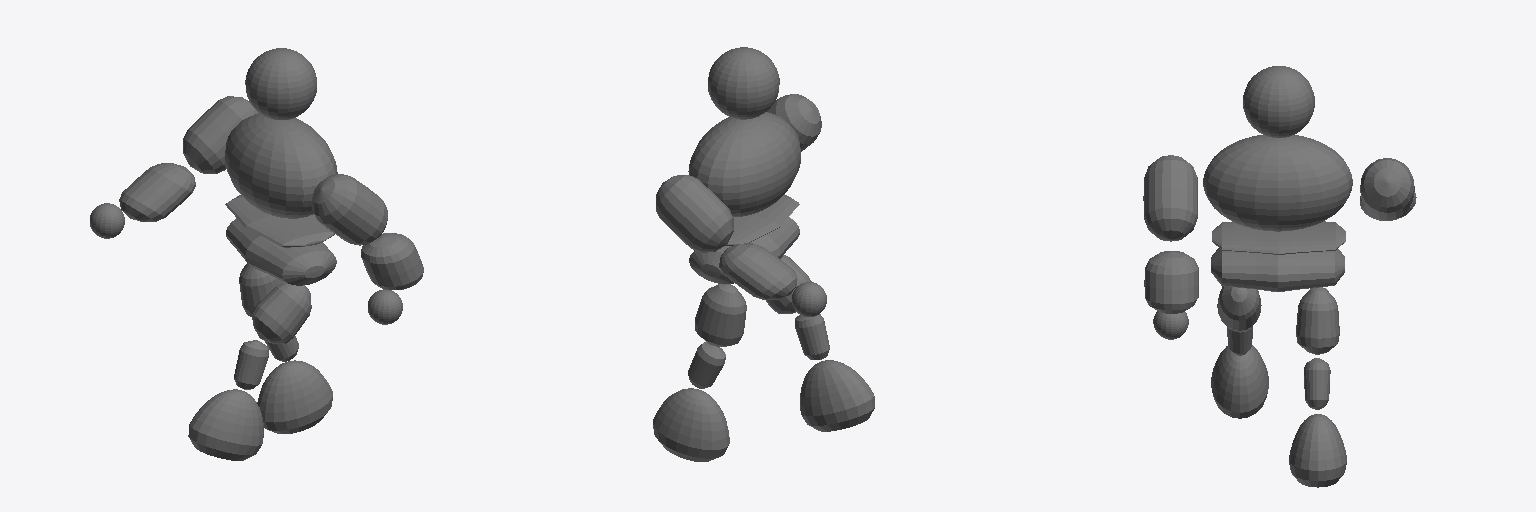
Rendered from PTwo2.obj.
3 renders of one model, left to right at view 1: azimuth 30°, elevation 25°; view 2: azimuth 150°, elevation 25°; view 3: azimuth 270°, elevation 25°, orthographic.
Visible parts, largest first — view 1: pSphere1, pasted__pasted__pSphere1 pasted__group group3, pasted__pasted__pasted__pSphere1 pasted__pasted__group pasted__g, pSphere3, pasted__pCylinder2 group12, pCylinder1, pCylinder2, pasted__pasted__pasted__pCylinder2 pasted__pasted__group13 paste, pasted__pasted__pCylinder2 pasted__group13 group14, pasted__pasted__pasted__pasted__pCylinder1 pasted__pasted__paste, pasted__pCylinder1 group11, pasted__pasted__pasted__pCylinder1 pasted__pasted__group4 pasted (+2 smaller); view 2: pSphere1, pasted__pasted__pSphere1 pasted__group group3, pCylinder2, pasted__pasted__pasted__pSphere1 pasted__pasted__group pasted__g, pSphere3, pasted__pasted__pasted__pCylinder1 pasted__pasted__group4 pasted, pasted__pasted__pasted__pCylinder2 pasted__pasted__group13 paste, pCylinder1, pasted__pCylinder1 group11, pasted__pCylinder2 group12, pasted__pasted__pCylinder1 pasted__group4 group8, pSphere2 (+1 smaller); view 3: pSphere1, pCylinder1, pSphere3, pasted__pCylinder2 group12, pasted__pCylinder1 group11, pasted__pasted__pSphere1 pasted__group group3, pasted__pasted__pasted__pSphere1 pasted__pasted__group pasted__g, pasted__pasted__pasted__pCylinder1 pasted__pasted__group4 pasted, pasted__pasted__pCylinder2 pasted__group13 group14, pCylinder2, pasted__pasted__pasted__pasted__pCylinder1 pasted__pasted__paste, pasted__pasted__pCylinder1 pasted__group4 group8 (+1 smaller).
Boxes of the visible parts, x1=… form: pSphere1: x1=225, y1=113, x2=337, y2=218; pasted__pasted__pSphere1 pasted__group group3: x1=257, y1=360, x2=332, y2=433; pasted__pasted__pasted__pSphere1 pasted__pasted__group pasted__g: x1=188, y1=389, x2=263, y2=460; pSphere3: x1=245, y1=48, x2=316, y2=119; pasted__pCylinder2 group12: x1=311, y1=174, x2=387, y2=245; pCylinder1: x1=226, y1=218, x2=336, y2=285; pCylinder2: x1=183, y1=96, x2=258, y2=173; pasted__pasted__pasted__pCylinder2 pasted__pasted__group13 paste: x1=119, y1=163, x2=195, y2=221; pasted__pasted__pCylinder2 pasted__group13 group14: x1=361, y1=233, x2=423, y2=289; pasted__pasted__pasted__pasted__pCylinder1 pasted__pasted__paste: x1=251, y1=283, x2=311, y2=343; pasted__pCylinder1 group11: x1=225, y1=195, x2=334, y2=247; pasted__pasted__pasted__pCylinder1 pasted__pasted__group4 pasted: x1=234, y1=263, x2=285, y2=389; pSphere1: x1=688, y1=112, x2=800, y2=216; pasted__pasted__pSphere1 pasted__group group3: x1=653, y1=388, x2=729, y2=461; pCylinder2: x1=656, y1=175, x2=733, y2=252; pasted__pasted__pasted__pSphere1 pasted__pasted__group pasted__g: x1=800, y1=360, x2=874, y2=431; pSphere3: x1=708, y1=47, x2=779, y2=119; pasted__pasted__pasted__pCylinder1 pasted__pasted__group4 pasted: x1=695, y1=284, x2=829, y2=359; pasted__pasted__pasted__pCylinder2 pasted__pasted__group13 paste: x1=719, y1=243, x2=796, y2=299; pCylinder1: x1=689, y1=217, x2=799, y2=283; pasted__pCylinder1 group11: x1=726, y1=194, x2=799, y2=246; pasted__pCylinder2 group12: x1=767, y1=94, x2=821, y2=151; pasted__pasted__pCylinder1 pasted__group4 group8: x1=688, y1=342, x2=725, y2=388; pSphere2: x1=792, y1=282, x2=826, y2=316; pSphere1: x1=1203, y1=135, x2=1352, y2=231; pCylinder1: x1=1211, y1=248, x2=1344, y2=291; pSphere3: x1=1243, y1=66, x2=1314, y2=137; pasted__pCylinder2 group12: x1=1143, y1=155, x2=1197, y2=241; pasted__pCylinder1 group11: x1=1212, y1=221, x2=1345, y2=254; pasted__pasted__pSphere1 pasted__group group3: x1=1289, y1=414, x2=1346, y2=487; pasted__pasted__pasted__pSphere1 pasted__pasted__group pasted__g: x1=1211, y1=345, x2=1268, y2=418; pasted__pasted__pasted__pCylinder1 pasted__pasted__group4 pasted: x1=1227, y1=287, x2=1339, y2=355; pasted__pasted__pCylinder2 pasted__group13 group14: x1=1144, y1=251, x2=1198, y2=313; pCylinder2: x1=1360, y1=158, x2=1414, y2=219; pasted__pasted__pasted__pasted__pCylinder1 pasted__pasted__paste: x1=1217, y1=286, x2=1261, y2=331; pasted__pasted__pCylinder1 pasted__group4 group8: x1=1304, y1=358, x2=1330, y2=409.
Size of the model in its own units: 3.76 by 6.48 by 4.03.